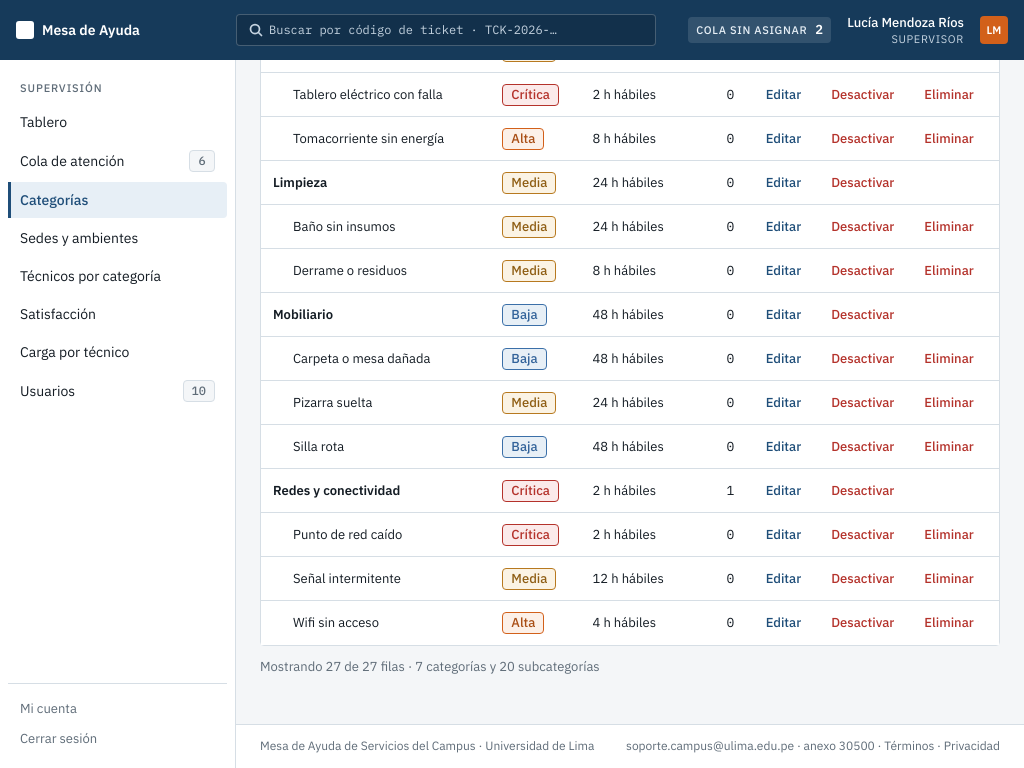
it: CategoriasPage · eliminar › no elimina nada si se cancela la confirmación
(page scrolled)
Expected: the text "Cola sin asignar" is shown, [696,22,807,38]
Click the button named "Eliminar Silla rota" at (949, 446), box [912,430,987,462]
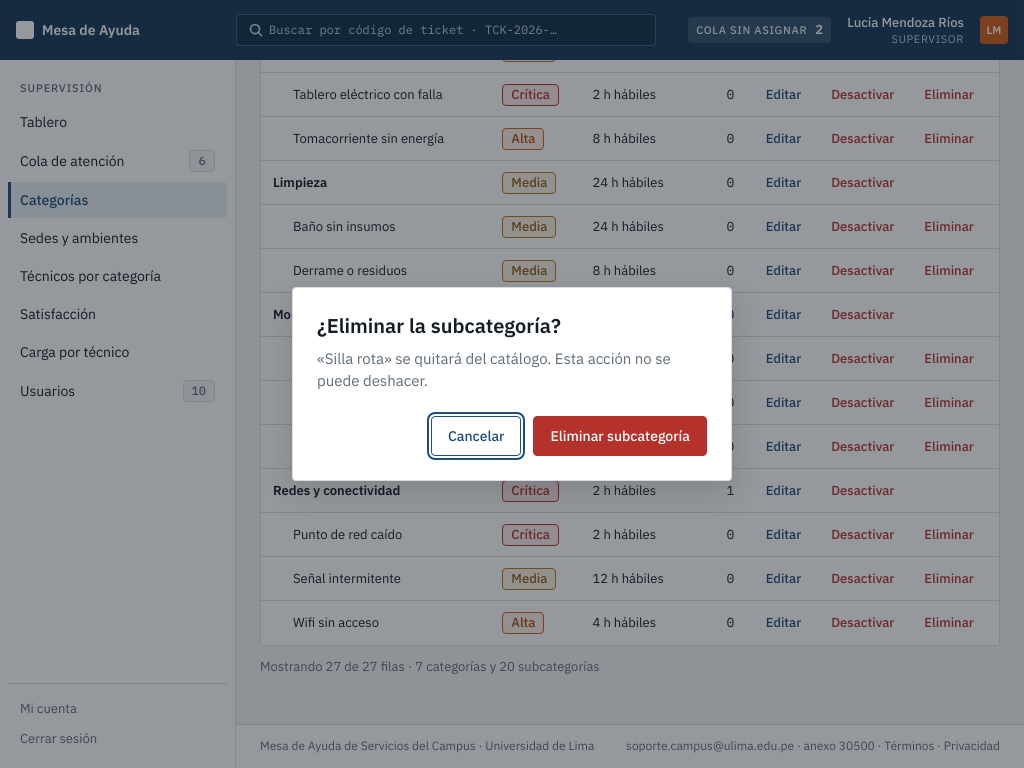
Click the button "Cancelar" at (476, 436), box [431,416,521,456]
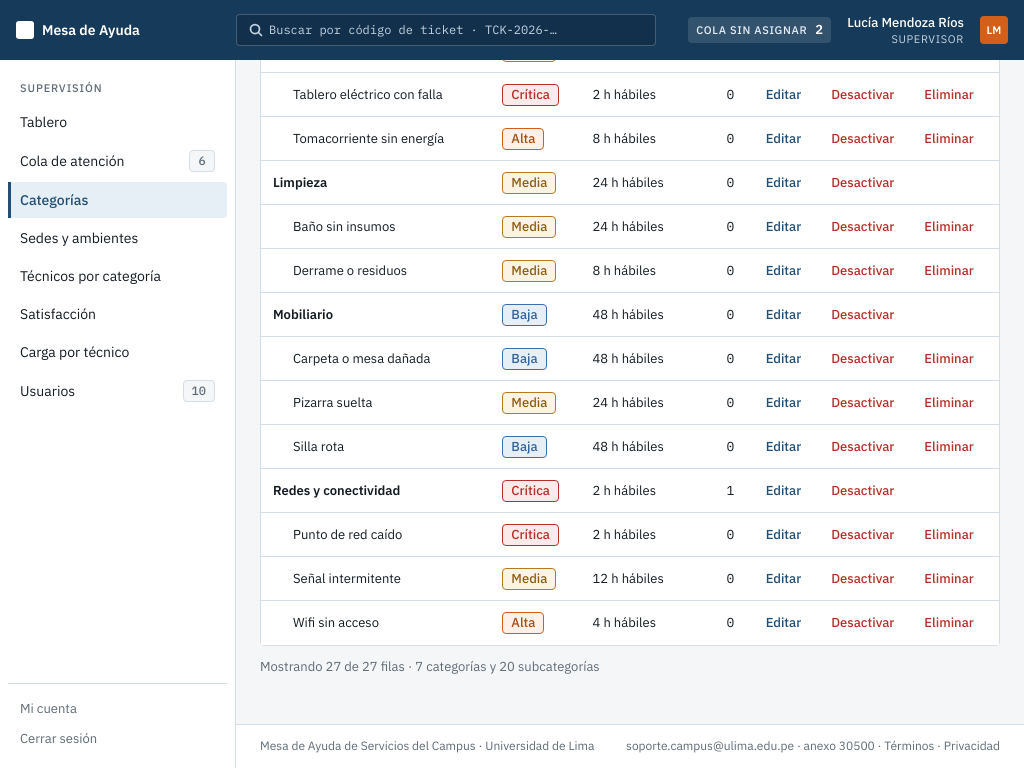
Expected: the dialog is gone
